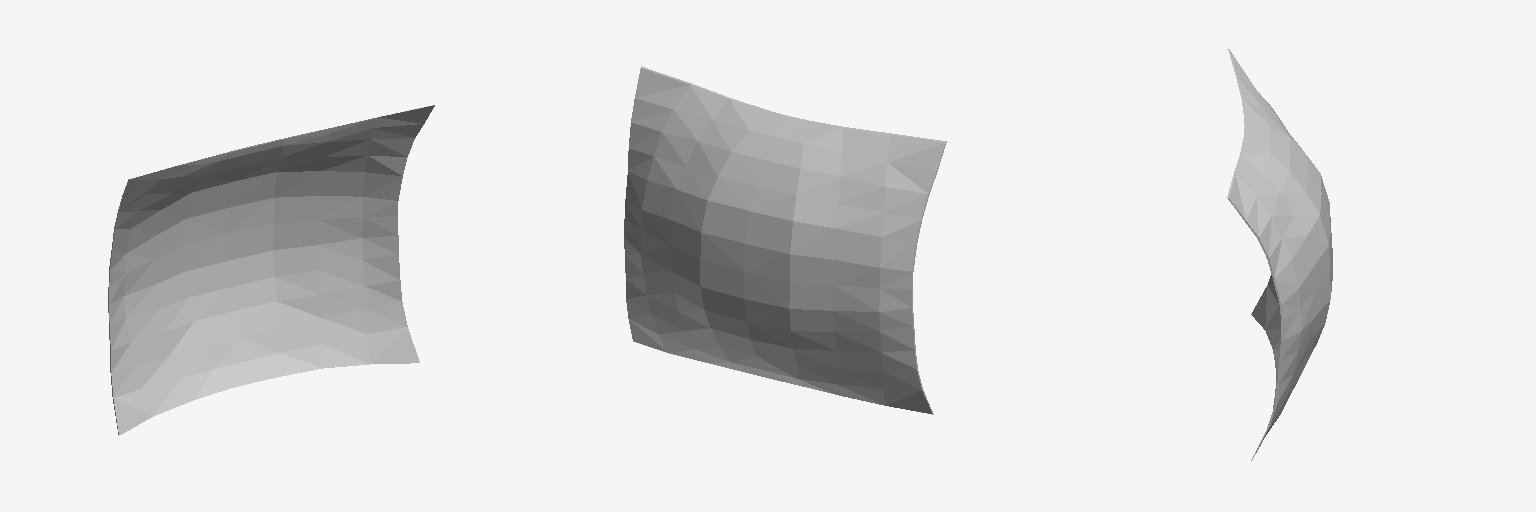
Rendered from sail.obj.
3 views of the same model, side by side, from view 1: azimuth 30°, elevation 25°; view 2: azimuth 150°, elevation 25°; view 3: azimuth 270°, elevation 25° (orthographic).
Parts seen in each view (by area): view 1: obj.sail.000_Plane; view 2: obj.sail.000_Plane; view 3: obj.sail.000_Plane.
Boxes of the visible parts, <box> form: obj.sail.000_Plane: <box>108,105,434,435</box>; obj.sail.000_Plane: <box>624,66,946,414</box>; obj.sail.000_Plane: <box>1227,49,1332,460</box>.
Bounding box in the file's own units: 2.73 × 2.27 × 0.8175.